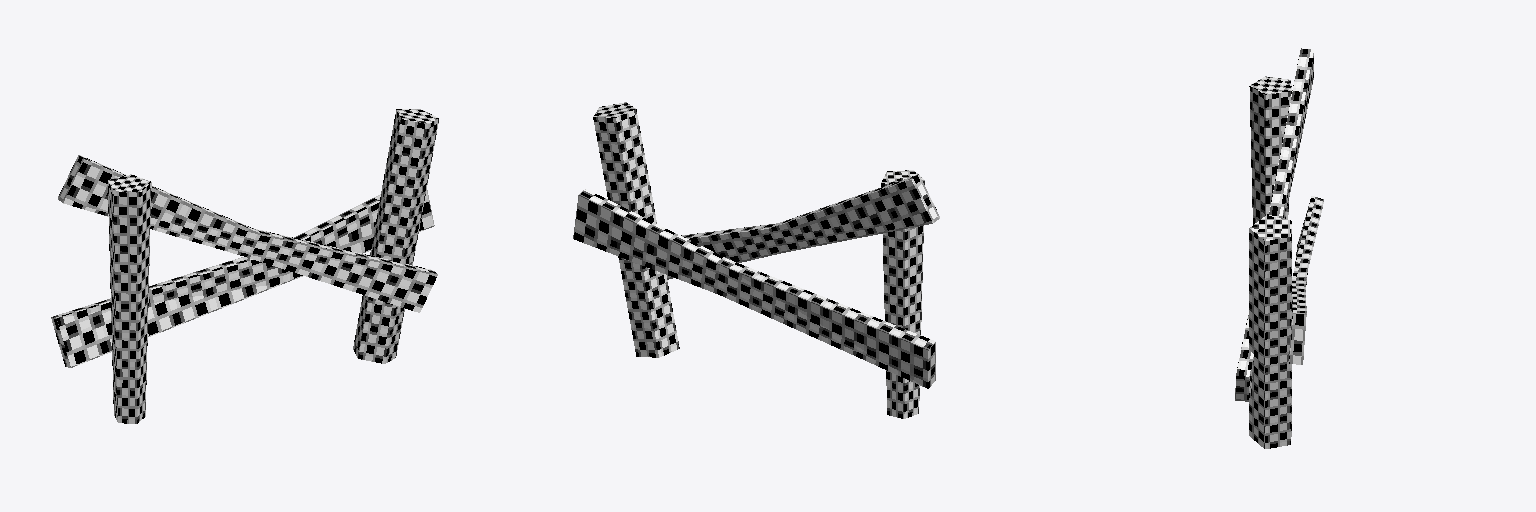
The picture shows the model from 3 angles: view 1: azimuth 30°, elevation 25°; view 2: azimuth 150°, elevation 25°; view 3: azimuth 270°, elevation 25°; orthographic projection.
Visible parts, largest first — view 1: CERCA_01; view 2: CERCA_01; view 3: CERCA_01.
Part boxes in pixels (left/top/right/bottom): CERCA_01: left=51, top=109, right=438, bottom=423; CERCA_01: left=573, top=102, right=939, bottom=418; CERCA_01: left=1235, top=48, right=1323, bottom=448.
Bounding box in the file's own units: 35.64 × 23.9 × 7.51.
1 materials, 1 textured.